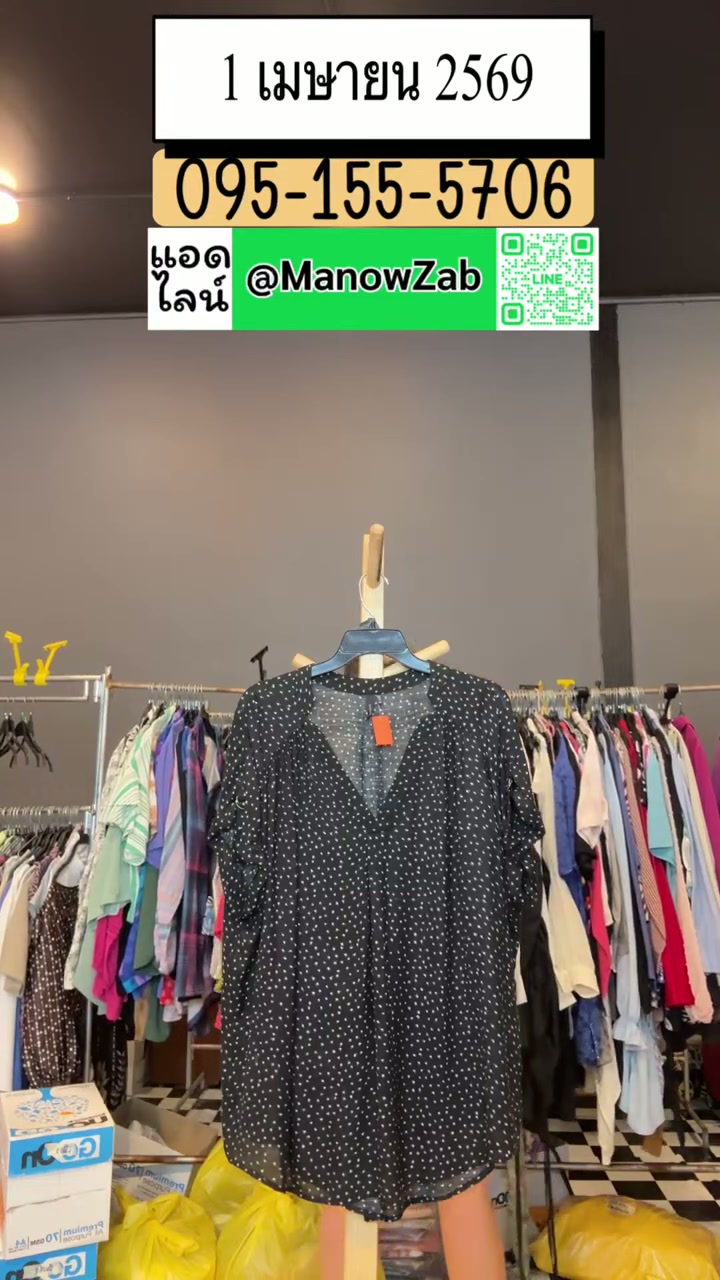display_shirt: (211, 666, 540, 1220)
